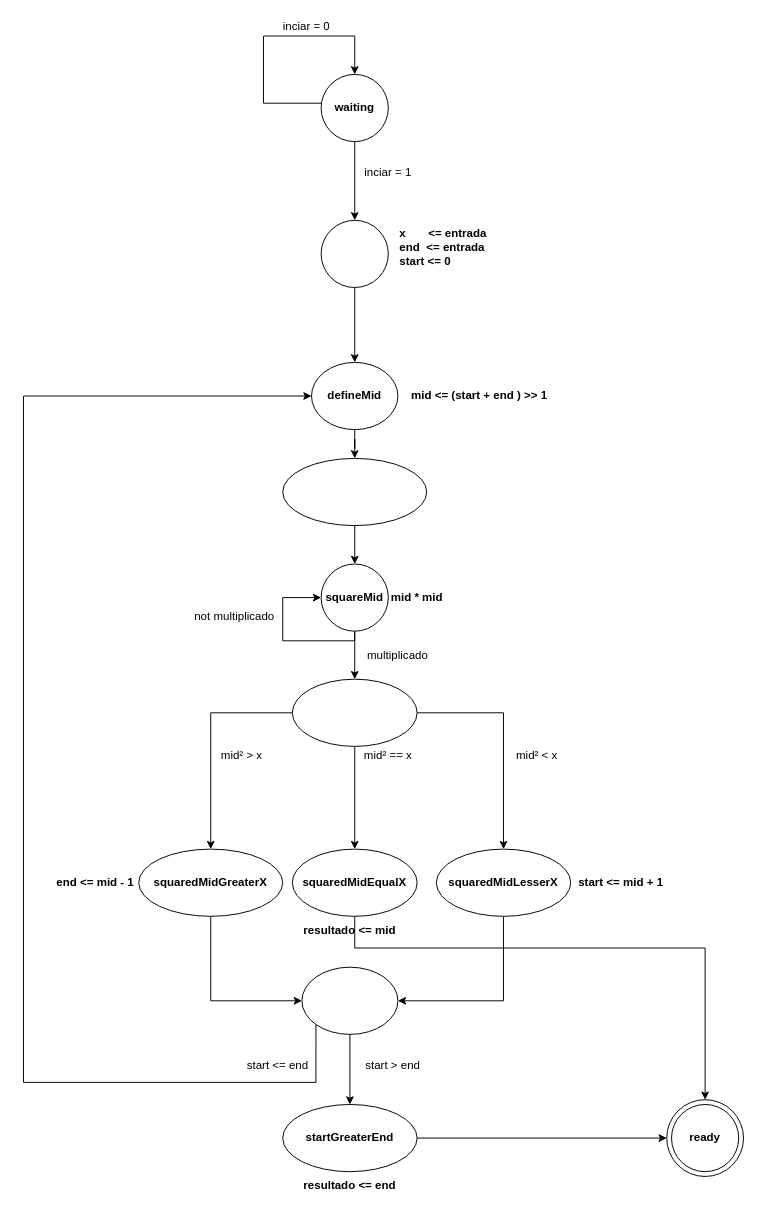
The diagram is 760 pixels wide and 1216 high, and some of its shapes have lost their labels. Each missing label, with the box of its shape:
boot: (320, 219, 388, 288)
initializeSquareMid: (282, 457, 427, 526)
squaredMidWithX: (291, 678, 417, 746)
startWIthEnd: (301, 966, 398, 1034)
